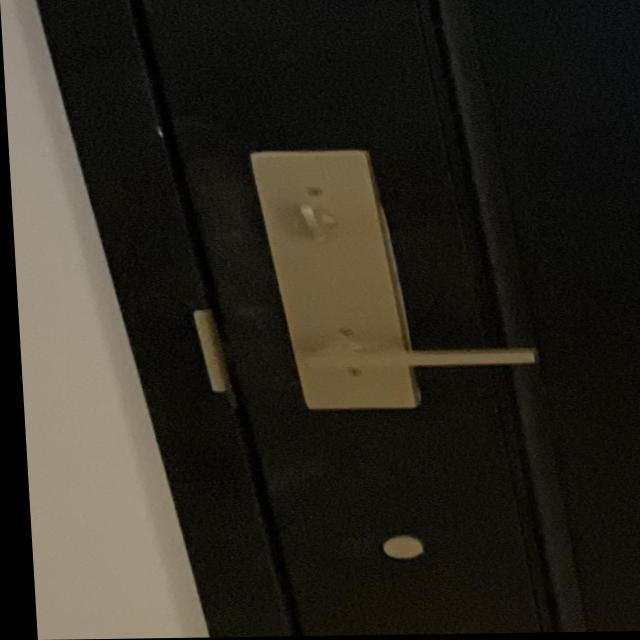door_handle: (253, 316, 559, 399)
